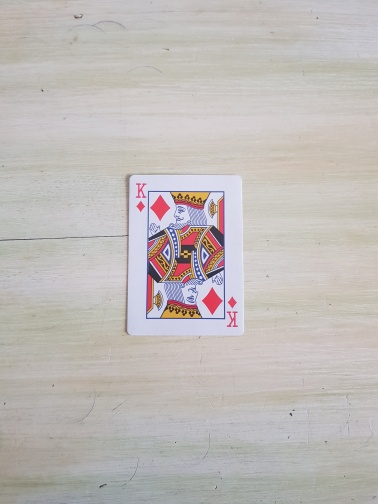king: (125, 173, 246, 337)
